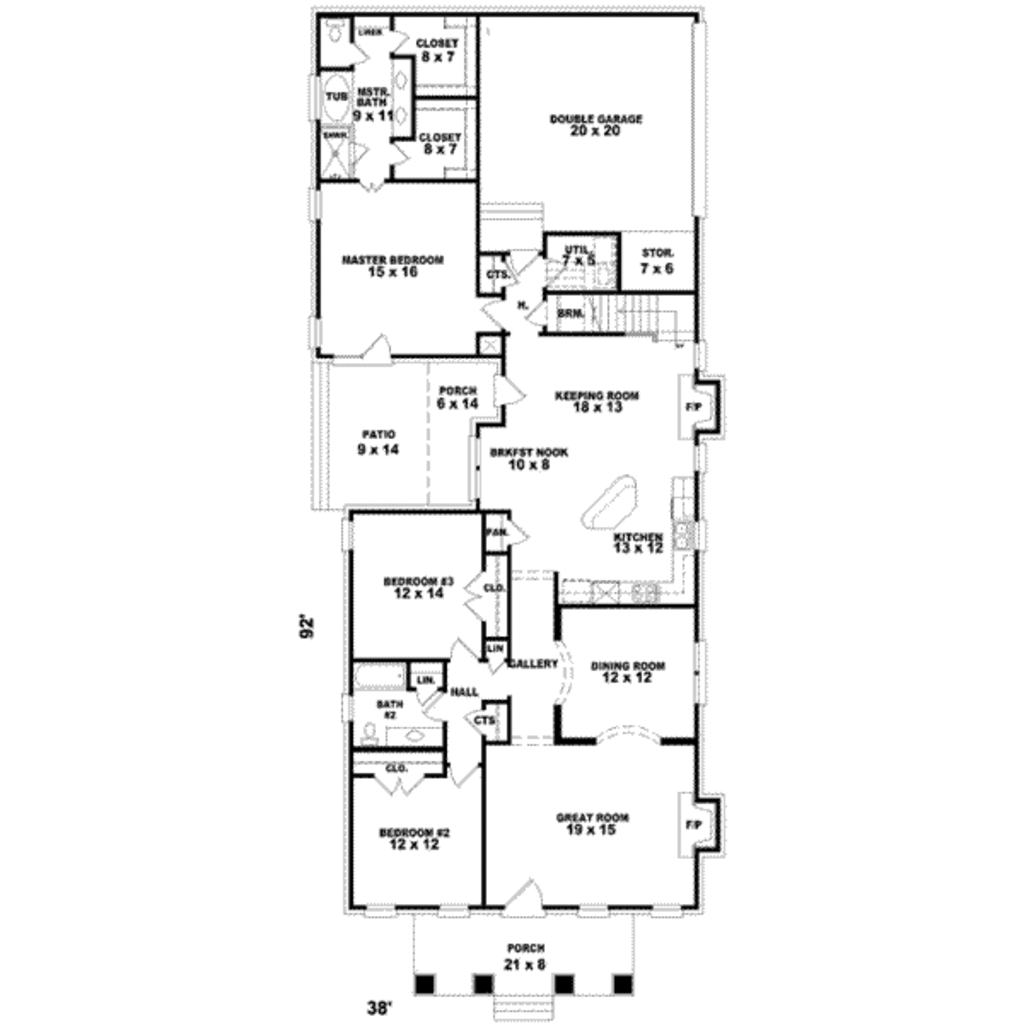door: (496, 870, 550, 924), (349, 320, 396, 370), (490, 366, 533, 409), (461, 573, 495, 622), (371, 771, 428, 797), (444, 751, 482, 789), (503, 247, 541, 285), (420, 684, 455, 724), (477, 297, 514, 327), (474, 646, 509, 674), (358, 179, 393, 201), (447, 638, 479, 660), (415, 689, 436, 701)
large_sink: (315, 9, 349, 54), (361, 719, 385, 751)
small_sink: (390, 58, 415, 141), (388, 725, 446, 747)
stairs: (546, 297, 699, 346)
tub: (346, 658, 412, 689), (319, 71, 352, 128)
twin_sink: (669, 520, 712, 551)
window: (465, 436, 490, 503), (298, 311, 330, 355), (361, 901, 409, 924), (336, 516, 358, 557), (436, 905, 477, 920), (573, 903, 619, 916), (309, 187, 320, 228)
